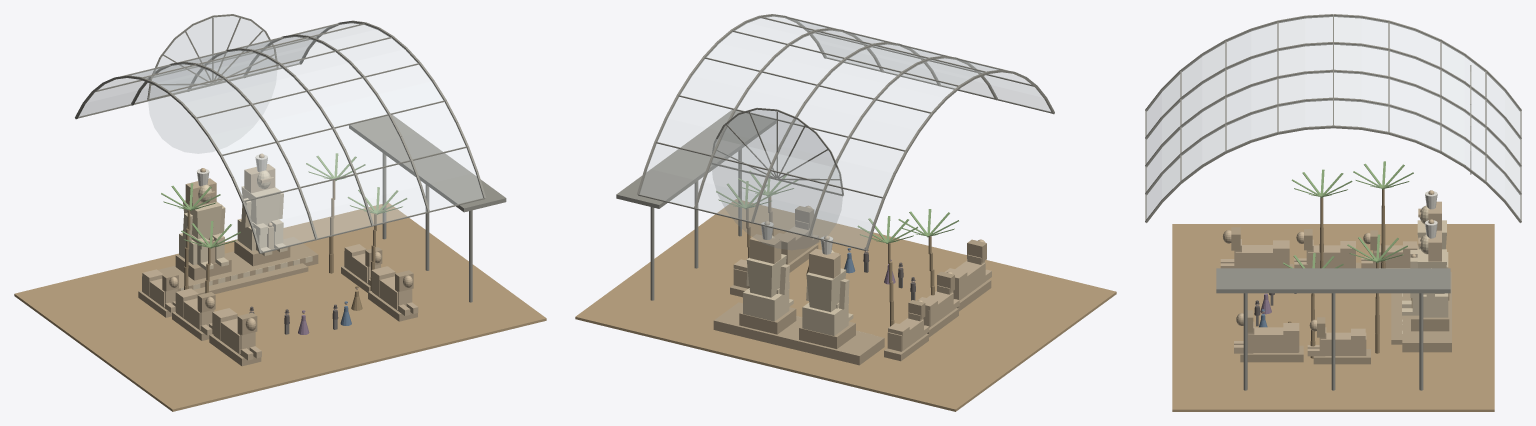
File: scan-fig65-egyptian-colossi-transept-muse.glb
3 views of the same model, side by side, from view 1: azimuth 30°, elevation 25°; view 2: azimuth 150°, elevation 25°; view 3: azimuth 270°, elevation 25° (orthographic).
Visible parts, largest first — view 1: VaultGlass, Floor, FanGlass, GallerySlab, Platform, PlatformStep, ColossusR_torso, ColossusL_torso, ColossusR_plinth, ColossusL_plinth, SphinxL1_body, ColossusR_nemes (+8 smaller); view 2: VaultGlass, Floor, FanGlass, GallerySlab, Platform, ColossusL_torso, ColossusR_torso, ColossusL_seat, ColossusR_seat, ColossusR_plinth, ColossusL_plinth, ColossusR_nemes (+9 smaller); view 3: Floor, VaultGlass, GallerySlab, Platform, SphinxR1_body, SphinxL1_body, SphinxR2_body, SphinxR1_plinth, SphinxL2_body, PlatformStep, ColossusR_seat, ColossusR_plinth (+11 smaller).
Boxes of the visible parts, left/top/right/bottom form: VaultGlass: left=79, top=22, right=483, bottom=251; Floor: left=14, top=202, right=546, bottom=411; FanGlass: left=148, top=16, right=276, bottom=153; GallerySlab: left=349, top=114, right=506, bottom=212; Platform: left=158, top=237, right=318, bottom=291; PlatformStep: left=194, top=263, right=308, bottom=294; ColossusR_torso: left=241, top=186, right=280, bottom=225; ColossusL_torso: left=183, top=200, right=222, bottom=239; ColossusR_plinth: left=234, top=240, right=290, bottom=266; ColossusL_plinth: left=175, top=254, right=231, bottom=280; SphinxL1_body: left=213, top=318, right=255, bottom=354; ColossusR_nemes: left=244, top=164, right=275, bottom=193; VaultGlass: left=640, top=16, right=1050, bottom=248; Floor: left=575, top=199, right=1116, bottom=411; FanGlass: left=712, top=110, right=842, bottom=249; GallerySlab: left=616, top=109, right=776, bottom=208; Platform: left=713, top=302, right=884, bottom=365; ColossusL_torso: left=806, top=268, right=846, bottom=312; ColossusR_torso: left=746, top=254, right=786, bottom=297; ColossusL_seat: left=802, top=302, right=848, bottom=335; ColossusR_seat: left=743, top=288, right=789, bottom=321; ColossusR_plinth: left=739, top=307, right=796, bottom=334; ColossusL_plinth: left=799, top=321, right=855, bottom=348; ColossusR_nemes: left=749, top=234, right=781, bottom=263; Floor: left=1172, top=224, right=1494, bottom=411; VaultGlass: left=1146, top=16, right=1520, bottom=218; GallerySlab: left=1216, top=268, right=1450, bottom=293; Platform: left=1402, top=272, right=1451, bottom=352; SphinxR1_body: left=1248, top=327, right=1298, bottom=352; SphinxL1_body: left=1235, top=245, right=1272, bottom=268; SphinxR2_body: left=1320, top=332, right=1366, bottom=355; SphinxR1_plinth: left=1240, top=345, right=1303, bottom=362; SphinxL2_body: left=1308, top=245, right=1340, bottom=268; PlatformStep: left=1391, top=293, right=1402, bottom=344; ColossusR_seat: left=1423, top=293, right=1448, bottom=317; ColossusR_plinth: left=1411, top=300, right=1449, bottom=331.
Size of the model in its own units: 30 by 18.75 by 25.72.
